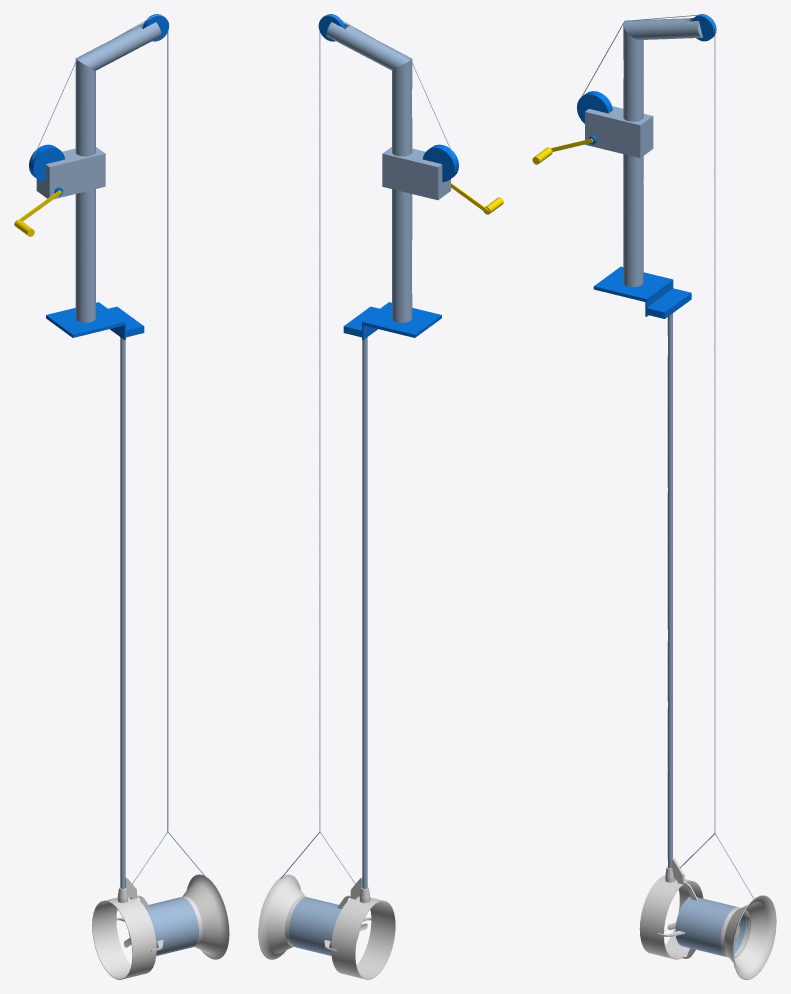
The model's file is submerged-circulation-pump.gltf.
The picture shows the model from 3 angles, left to right: view 1: azimuth 30°, elevation 25°; view 2: azimuth 150°, elevation 25°; view 3: azimuth 330°, elevation 25°; orthographic projection.
Visible parts, largest first — view 1: 连接的实心几何图形 [224458], 旋转 [224487], 旋转 [224563], 拉伸 [224461], 旋转 [224529], 连接的实心几何图形 [224668], 放样 [224515], 拉伸 [224414], 旋转 [224555], 拉伸 [224468]; view 2: 连接的实心几何图形 [224458], 旋转 [224487], 旋转 [224563], 拉伸 [224461], 旋转 [224529], 连接的实心几何图形 [224668], 放样 [224515], 拉伸 [224414], 旋转 [224555], 拉伸 [224468]; view 3: 连接的实心几何图形 [224458], 旋转 [224487], 旋转 [224529], 连接的实心几何图形 [224668], 拉伸 [224461], 放样 [224515], 旋转 [224563], 拉伸 [224414], 旋转 [224555], 拉伸 [224480], 拉伸 [224468].
Part boxes in pixels (x1,y1,x2,y2): 连接的实心几何图形 [224458]: (75, 22, 161, 322); 旋转 [224487]: (120, 337, 125, 888); 旋转 [224563]: (92, 897, 149, 979); 拉伸 [224461]: (36, 147, 105, 199); 旋转 [224529]: (182, 874, 229, 959); 连接的实心几何图形 [224668]: (128, 897, 198, 955); 放样 [224515]: (32, 14, 168, 831); 拉伸 [224414]: (46, 302, 125, 337); 旋转 [224555]: (109, 896, 156, 974); 拉伸 [224468]: (29, 144, 64, 182); 连接的实心几何图形 [224458]: (326, 22, 412, 322); 旋转 [224487]: (362, 337, 367, 888); 旋转 [224563]: (338, 897, 395, 979); 拉伸 [224461]: (382, 147, 450, 200); 旋转 [224529]: (258, 874, 305, 959); 连接的实心几何图形 [224668]: (289, 897, 359, 955); 放样 [224515]: (319, 14, 454, 831); 拉伸 [224414]: (362, 302, 441, 337); 旋转 [224555]: (331, 896, 378, 974); 拉伸 [224468]: (423, 144, 458, 182); 连接的实心几何图形 [224458]: (623, 18, 702, 286); 旋转 [224487]: (667, 313, 672, 868); 旋转 [224529]: (724, 895, 776, 979); 连接的实心几何图形 [224668]: (675, 897, 745, 956); 拉伸 [224461]: (585, 106, 653, 158); 放样 [224515]: (581, 14, 715, 833); 旋转 [224563]: (639, 875, 695, 956); 拉伸 [224414]: (593, 266, 673, 302); 旋转 [224555]: (656, 879, 703, 959); 拉伸 [224480]: (646, 288, 691, 318); 拉伸 [224468]: (577, 91, 612, 123).
Size of the model in its own units: 1.73 by 7.79 by 0.6446.
